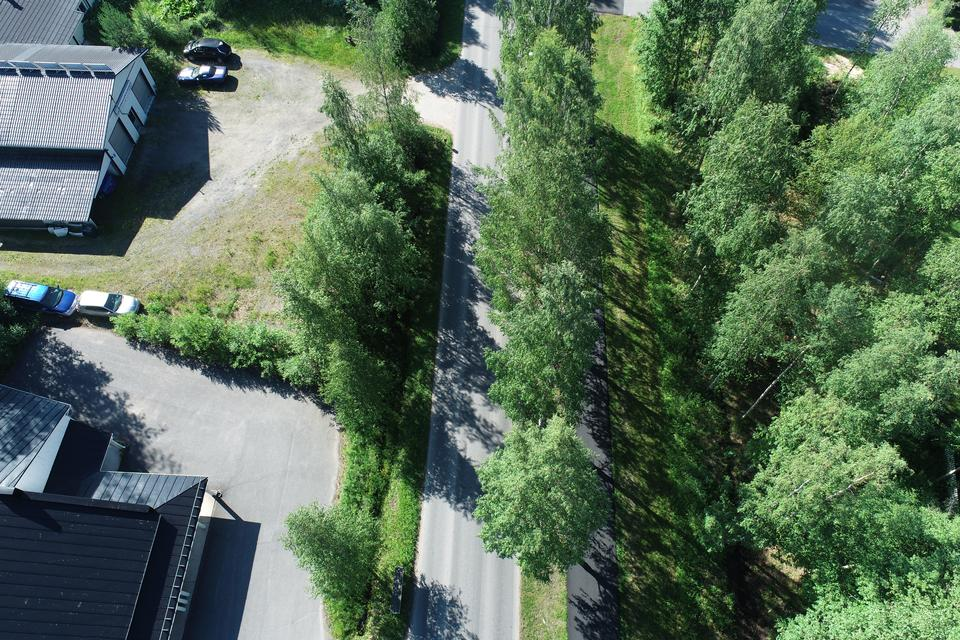intersection: (382, 43, 571, 171)
